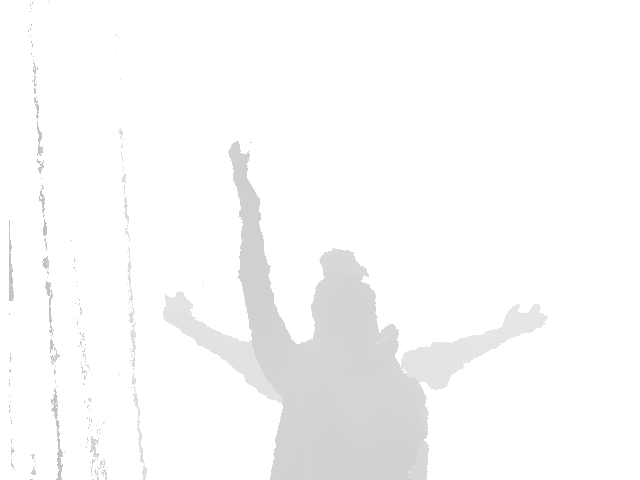hand: (501, 302, 548, 336), (163, 291, 194, 335), (229, 140, 248, 171)
head: (311, 248, 374, 343)
person: (229, 140, 430, 480), (163, 291, 548, 403)
